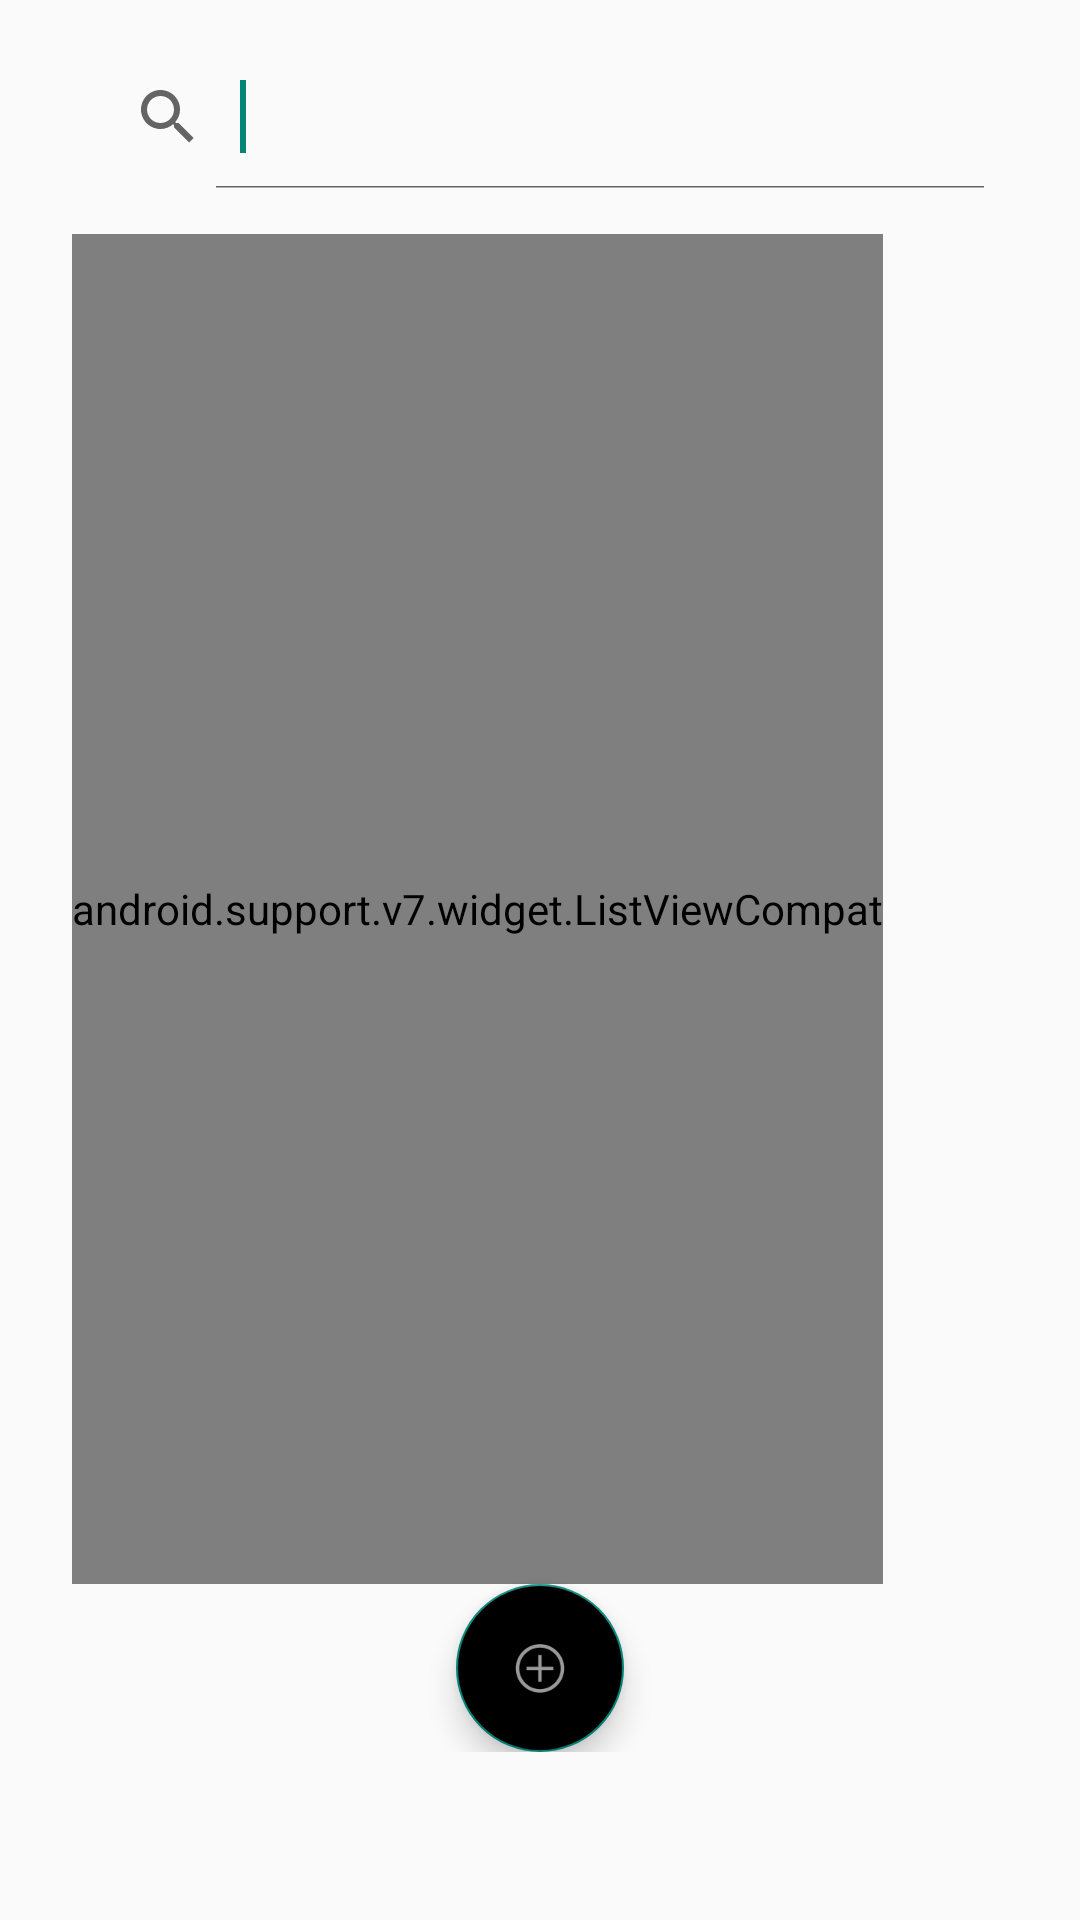

Named icons in this screenshot (1080px×1920px) and their centers, point (x, y):
add: point (540, 1668)
